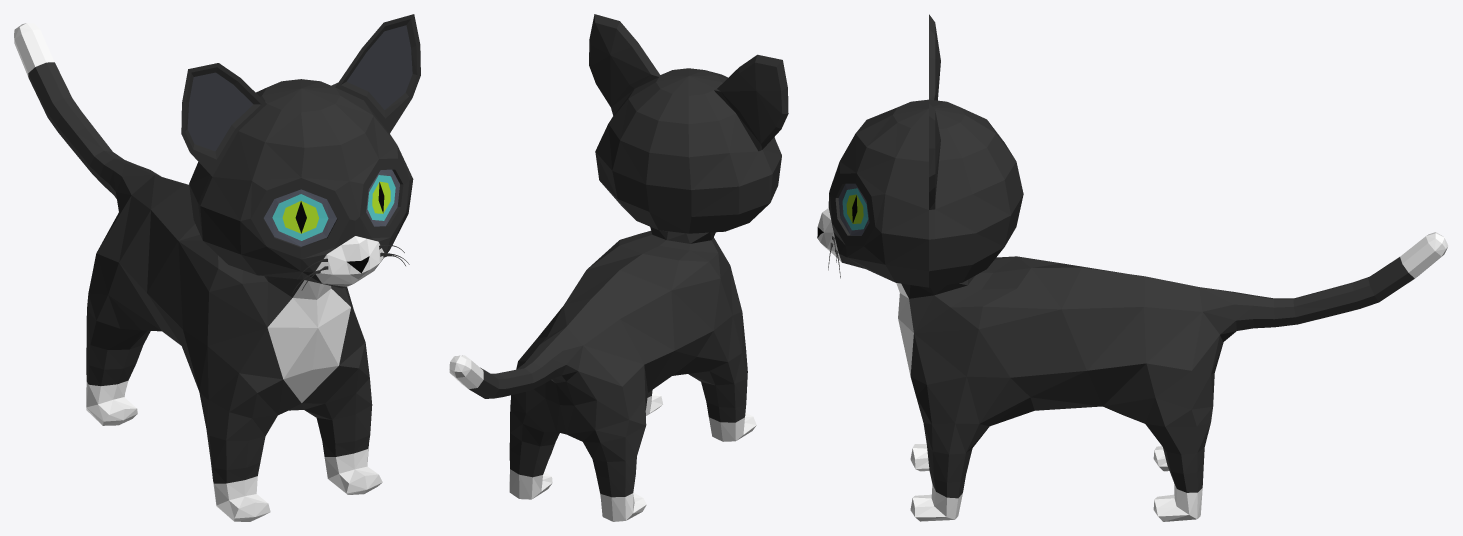
File: cat.fbx
3 views of the same model, side by side, from view 1: azimuth 30°, elevation 25°; view 2: azimuth 150°, elevation 25°; view 3: azimuth 270°, elevation 25° (orthographic). The views are drawn at different scales.
Parts seen in each view (by area): view 1: cat.001; view 2: cat.001; view 3: cat.001.
Part boxes in pixels (box(x1,y1,x2,y2)): cat.001: box(14, 14, 420, 521); cat.001: box(449, 14, 788, 521); cat.001: box(817, 14, 1448, 521).
Bounding box in the file's own units: 270 × 498 × 667.
